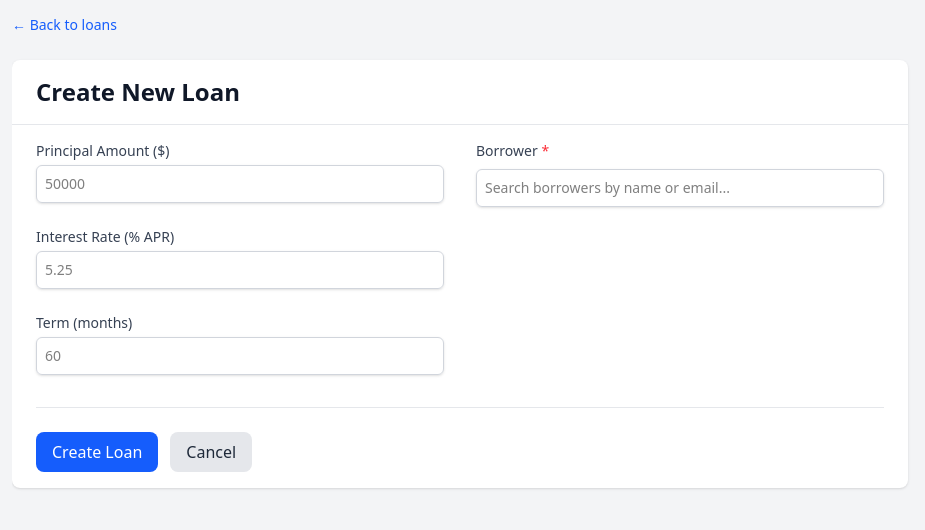
it: LoanForm › Form Validation › shows error for empty principal amount
Step 1. Type "5" into the number field labelled "Interest Rate (% APR)" → (240, 270), box [36,251,444,289]
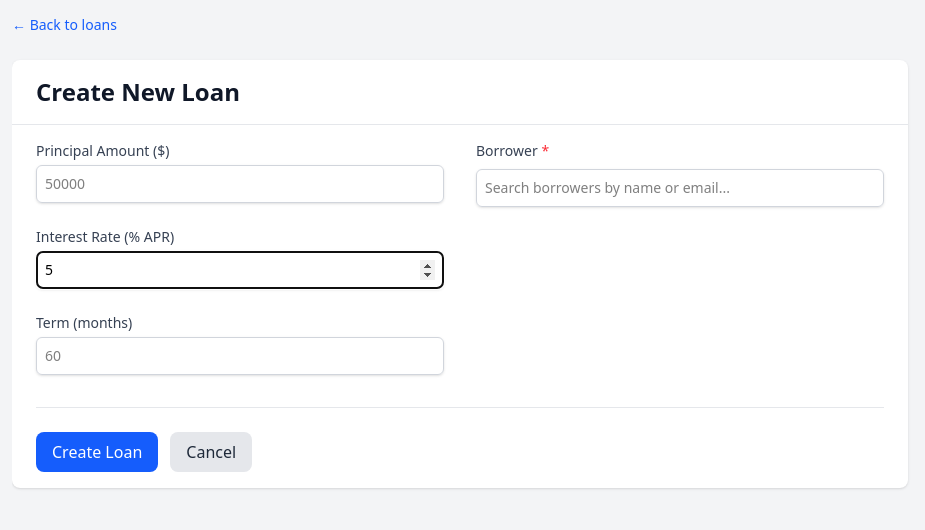
Step 2. Type "12" into the number field labelled "Term (months)" → (240, 356), box [36,337,444,375]
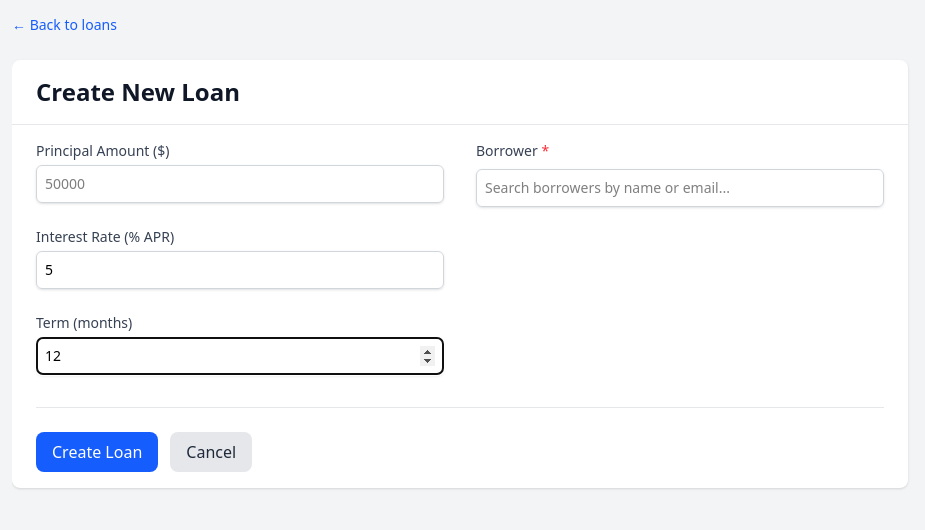
Step 3. Click the button "Create Loan" → (97, 452), box [36,432,158,472]
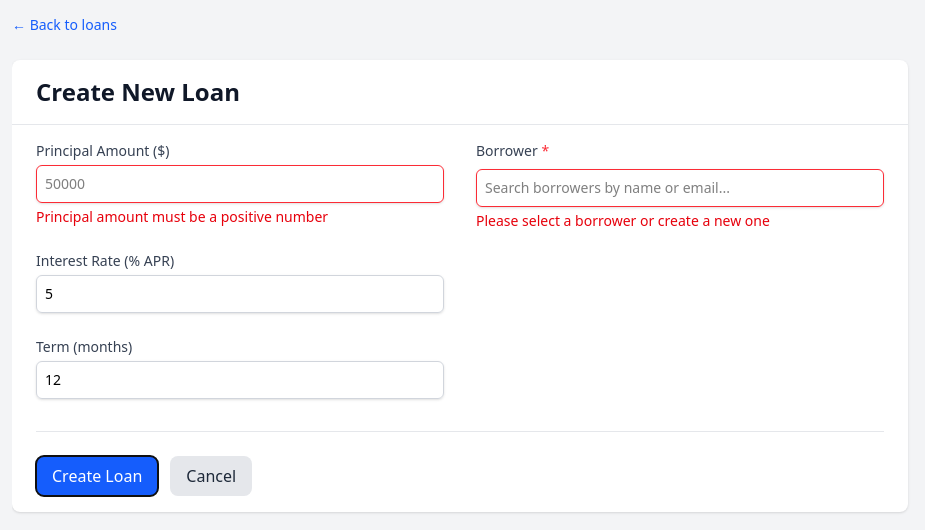
Result: the text "Principal amount must be a positive number" is shown at [36,207,328,226]
